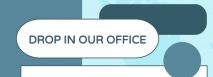button: (14, 18, 160, 59)
